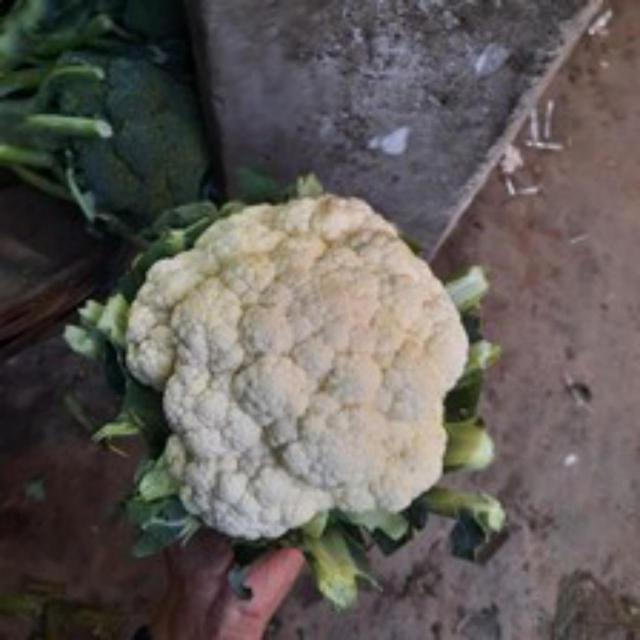cauliflower: (116, 186, 472, 550)
